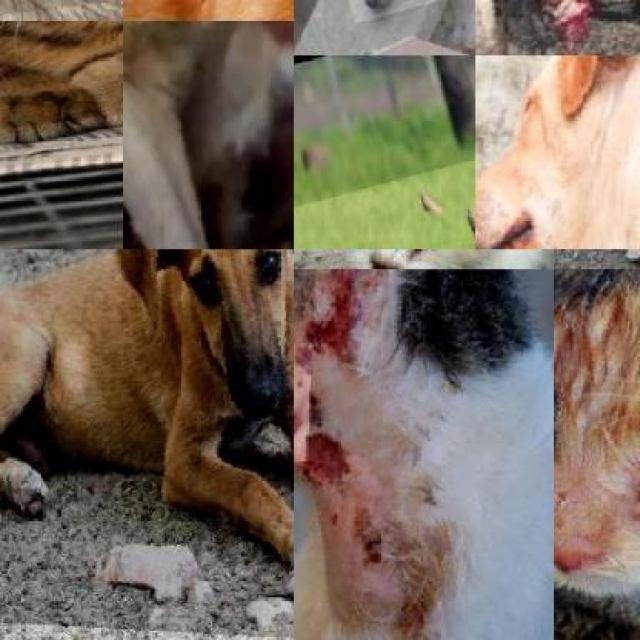cat: (294, 269, 554, 640), (554, 269, 640, 640), (0, 20, 123, 152)
cow: (294, 125, 475, 249)
dog: (0, 249, 294, 640), (123, 20, 294, 249), (475, 56, 640, 250)
injured: (294, 269, 371, 383), (523, 0, 640, 55), (320, 434, 375, 504), (294, 342, 312, 460)
